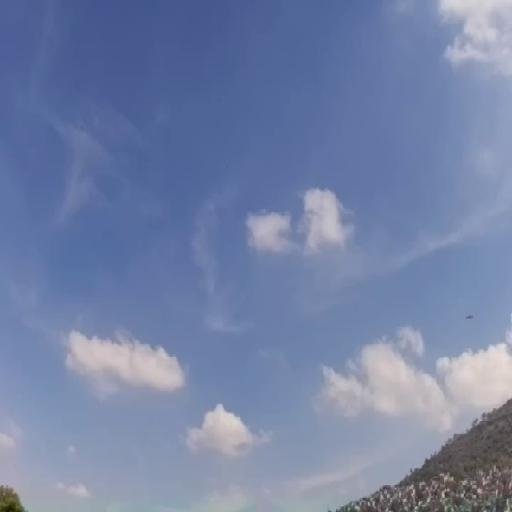drones: (461, 304, 478, 324)
